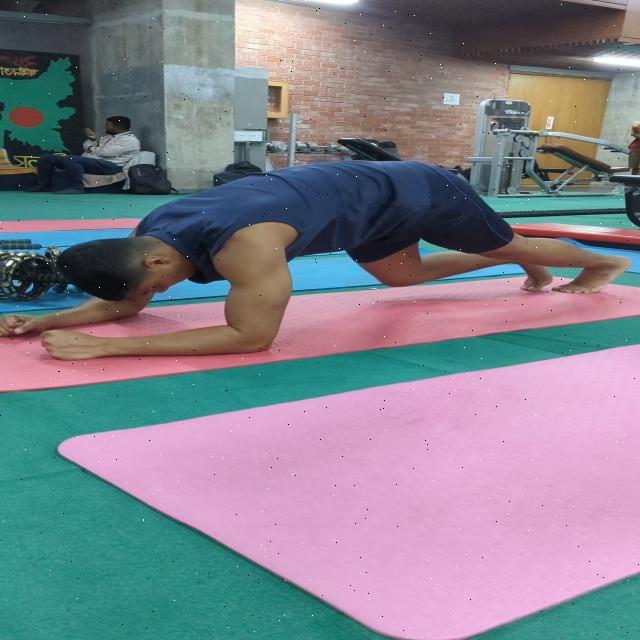Normal_MountainClimbers: (0, 130, 630, 399)
